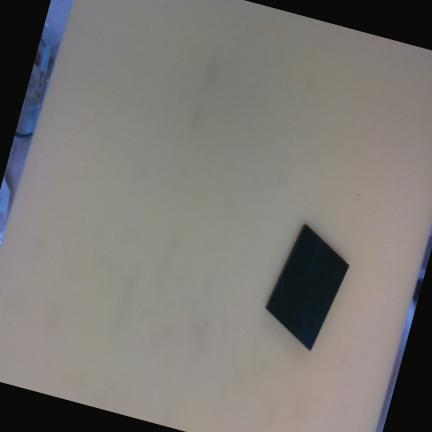tile: (256, 224, 357, 352)
